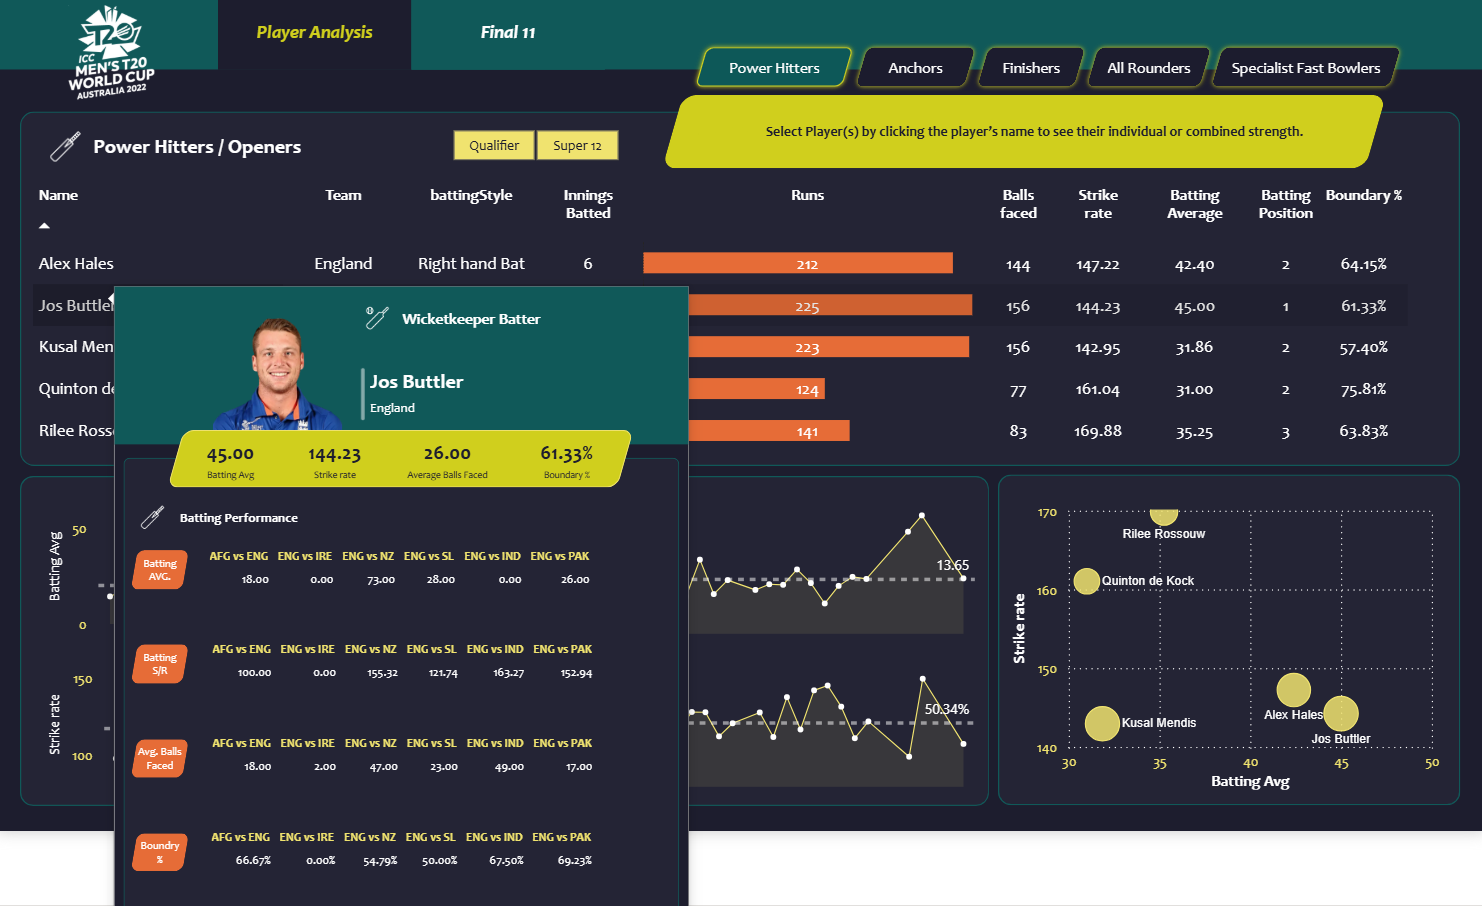

What the dashboard file says about the page in this screenshot:
{"tool":"powerbi","page":{"name":"Project - Sportan","canvas":[1280,720],"ordinal":0},"visuals":[{"type":"shape","box":[0,66,1280,654],"z":0},{"type":"card","fields":{"Values":["Key_Measures.Strike rate"]},"box":[867,89,93,60],"z":0,"group":"g2"},{"type":"group","id":"g1","title":"Group 2","box":[83.8,116.2,260,31.2],"z":0,"group":"g3"},{"type":"shape","box":[83.8,116.2,260,31.2],"z":0,"group":"g1"},{"type":"card","fields":{"Values":["Key_Measures.Bat Avg"]},"box":[768,89,92,60],"z":1000,"group":"g2"},{"type":"image","box":[38,114,44,36],"z":1000,"group":"g3"},{"type":"shape","box":[20,414.4,832.2,283.3],"z":1000},{"type":"actionButton","box":[734,42.6,111,42],"z":2000},{"type":"card","fields":{"Values":["Key_Measures.Boundary %"]},"box":[1063.6,92.3,110,56.7],"z":2000,"group":"g2"},{"type":"actionButton","box":[596,42.6,144,42],"z":3000},{"type":"card","fields":{"Values":["Key_Measures.Avergate Balls Faced"]},"box":[966,89,101,60],"z":3000,"group":"g2"},{"type":"actionButton","box":[838,42.6,101,42],"z":4000},{"type":"actionButton","box":[932,42.6,115,42],"z":5000},{"type":"actionButton","box":[1039,42.6,171,42],"z":6000},{"type":"image","box":[1220,3,48,59],"z":7000},{"type":"areaChart","fields":{"Category":["dim_match_summary.Match_Date.Variation.Date Hierarchy.Day"],"Y":["Key_Measures.Boundary %"]},"box":[438.8,560,406.2,126.2],"z":9000},{"type":"shape","box":[860,414,397,284],"z":10000},{"type":"areaChart","fields":{"Category":["dim_match_summary.Match_Date.Variation.Date Hierarchy.Day"],"Y":["Key_Measures.Avergate Balls Faced"]},"box":[438.8,428.8,406.2,126.2],"z":11000},{"type":"areaChart","fields":{"Category":["dim_match_summary.Match_Date.Variation.Date Hierarchy.Day"],"Y":["Key_Measures.Bat Avg"]},"box":[40,428.9,395.6,126.7],"z":12000},{"type":"areaChart","fields":{"Category":["dim_match_summary.Match_Date.Variation.Date Hierarchy.Day"],"Y":["Key_Measures.Strike rate"]},"box":[40,560,396.2,126.2],"z":13000},{"type":"shape","box":[20,102.2,1236.7,304.4],"z":14000},{"type":"slicer","fields":{"Values":["dim_match_summary.stage"]},"box":[366.7,111.1,191.1,38.9],"z":15000},{"type":"shape","box":[572,88,622,63],"z":16000},{"type":"shape","box":[591,103,173,34],"z":17000},{"type":"group","id":"g2","title":"Combined Perfoamce Metrices","box":[768,89,405.6,60],"z":18000},{"type":"group","id":"g3","title":"Group 1","box":[38,114,305.8,36],"z":19000},{"type":"tableEx","fields":{"Values":["dim_player.name","dim_player.team","dim_player.Batting Style","Key_Measures.Total Matches","Key_Measures.Total Runs","Key_Measures.total balls faced","Key_Measures.Strike rate","Key_Measures.Bat Avg","Key_Measures.Batting Position","Key_Measures.Boundary %"]},"box":[26,151,1231,255],"z":20000},{"type":"scatterChart","fields":{"Y":["Key_Measures.Strike rate"],"Category":["dim_player.name"],"X":["Key_Measures.Bat Avg"],"Size":["Key_Measures.Total Runs"]},"box":[866.7,430,377.8,258.9],"z":21000},{"type":"actionButton","title":"Button Player Ana selected","box":[191,0,166,66],"z":22000},{"type":"actionButton","title":"Button Player Ana selected","box":[357,0,166,66],"z":23000},{"type":"shape","box":[612,100,560,36],"z":24000}]}

Visuals, with their boxes on the page's 1280x720 design canvas (x1, y1, x2, y2). These are canvas units, not pixel positions in the 1482x906 screenshot, which may show the page scaled, cropped or inside an application window:
shape: <box>0,66,1280,720</box>
card - Key_Measures.Strike rate: <box>867,89,960,149</box>
"Group 2" group: <box>84,116,344,147</box>
shape: <box>84,116,344,147</box>
card - Key_Measures.Bat Avg: <box>768,89,860,149</box>
image: <box>38,114,82,150</box>
shape: <box>20,414,852,698</box>
actionButton: <box>734,43,845,85</box>
card - Key_Measures.Boundary %: <box>1064,92,1174,149</box>
actionButton: <box>596,43,740,85</box>
card - Key_Measures.Avergate Balls Faced: <box>966,89,1067,149</box>
actionButton: <box>838,43,939,85</box>
actionButton: <box>932,43,1047,85</box>
actionButton: <box>1039,43,1210,85</box>
image: <box>1220,3,1268,62</box>
areaChart - dim_match_summary.Match_Date.Variation.Date Hierarchy.Day x Key_Measures.Boundary %: <box>439,560,845,686</box>
shape: <box>860,414,1257,698</box>
areaChart - dim_match_summary.Match_Date.Variation.Date Hierarchy.Day x Key_Measures.Avergate Balls Faced: <box>439,429,845,555</box>
areaChart - dim_match_summary.Match_Date.Variation.Date Hierarchy.Day x Key_Measures.Bat Avg: <box>40,429,436,556</box>
areaChart - dim_match_summary.Match_Date.Variation.Date Hierarchy.Day x Key_Measures.Strike rate: <box>40,560,436,686</box>
shape: <box>20,102,1257,407</box>
slicer - dim_match_summary.stage: <box>367,111,558,150</box>
shape: <box>572,88,1194,151</box>
shape: <box>591,103,764,137</box>
"Combined Perfoamce Metrices" group: <box>768,89,1174,149</box>
"Group 1" group: <box>38,114,344,150</box>
tableEx - dim_player.name x dim_player.team: <box>26,151,1257,406</box>
scatterChart - Key_Measures.Strike rate x dim_player.name: <box>867,430,1244,689</box>
"Button Player Ana selected" actionButton: <box>191,0,357,66</box>
"Button Player Ana selected" actionButton: <box>357,0,523,66</box>
shape: <box>612,100,1172,136</box>
